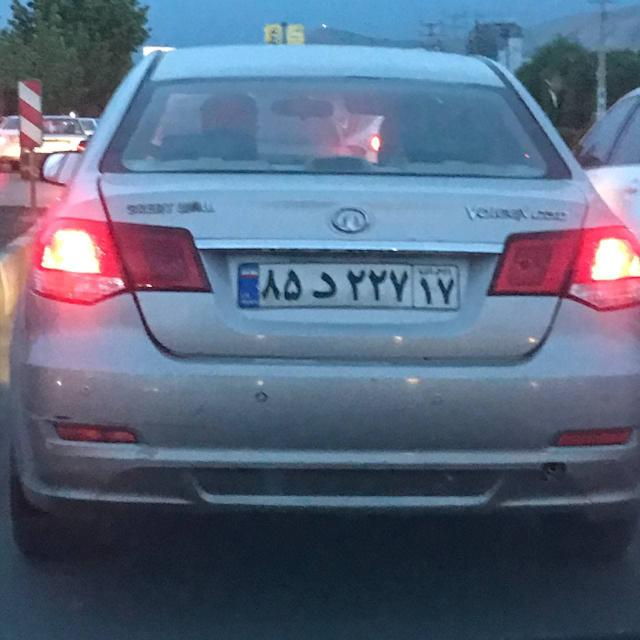Plates: (238, 263, 458, 310)
